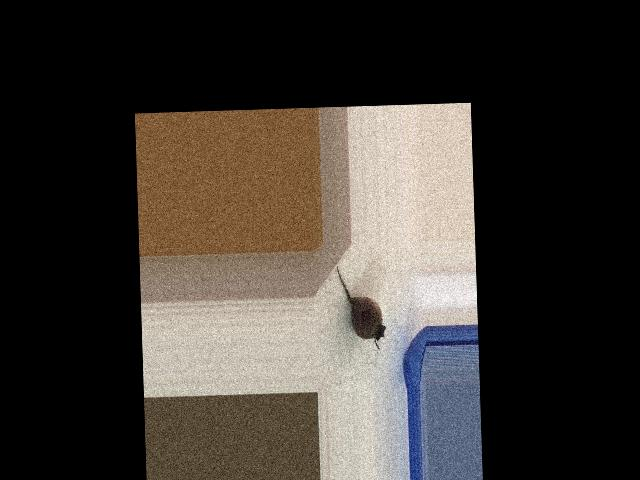beet: (336, 265, 386, 349)
